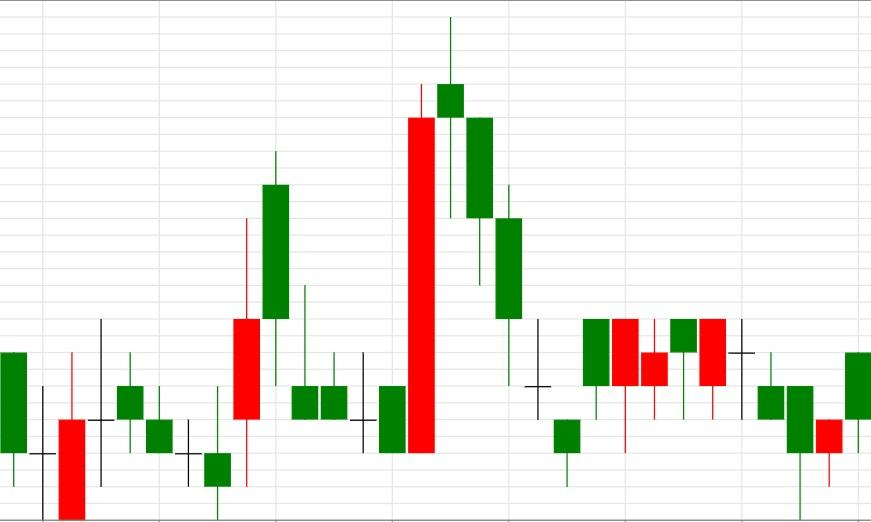bullish_engulfing_rise: (261, 83, 436, 454)
three_black_crows_fall: (379, 16, 523, 454)
